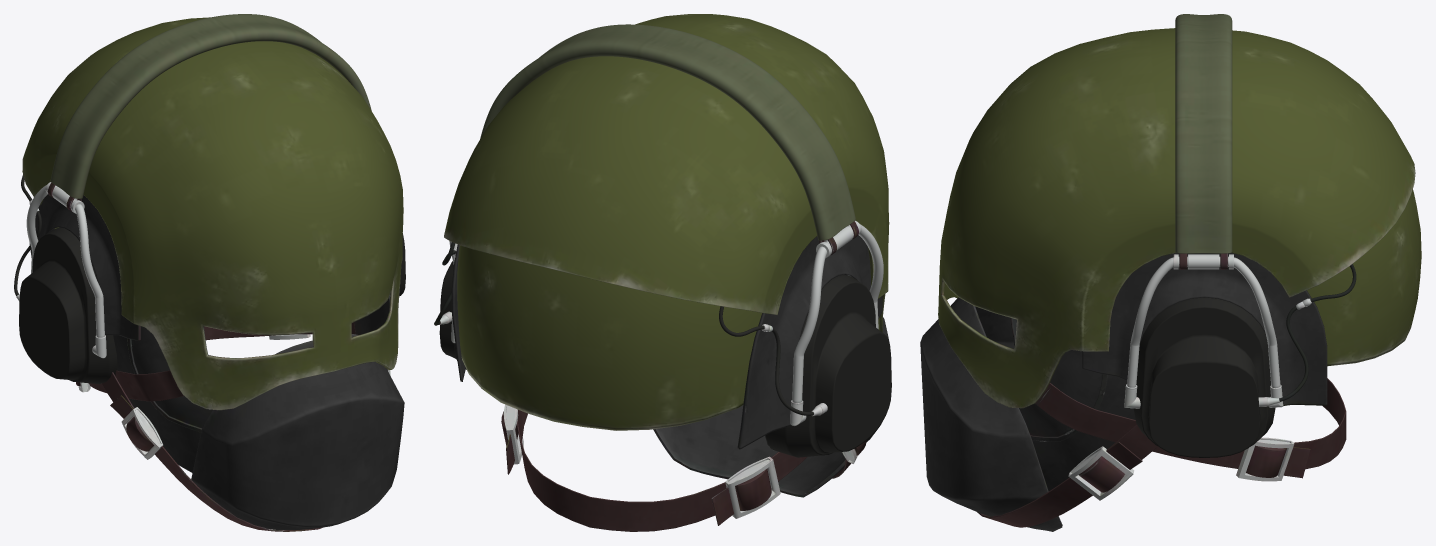
File: spetsnaz_ballistic_helmet__concept.compressed.glb
3 views of the same model, side by side, from view 1: azimuth 30°, elevation 25°; view 2: azimuth 150°, elevation 25°; view 3: azimuth 270°, elevation 25° (orthographic). The views are drawn at different scales.
Parts seen in each view (by area): view 1: Head_Material_0, MouthPiece_Material_0, StrapBig_Material_0, EarMuffs_Material_0, SidePiece1_Material_0, SidePiece_Material_0, StrapUp_Material_0, HeadPhoneMount1_Material_0, StrapDown_Material_0, Buckles_Material_0, StrapsSmall_Material_0; view 2: Head_Material_0, HeadBack_Material_0, StrapBig_Material_0, EarMuffs_Material_0, SidePiece_Material_0, StrapUp_Material_0, MouthPiece_Material_0, HeadPhoneMount1_Material_0, Buckles_Material_0, StrapsSmall_Material_0, Cable_Material_0; view 3: Head_Material_0, EarMuffs_Material_0, MouthPiece_Material_0, StrapBig_Material_0, SidePiece_Material_0, HeadBack_Material_0, SidePiece1_Material_0, StrapUp_Material_0, StrapsSmall_Material_0, StrapDown_Material_0, HeadPhoneMount1_Material_0, Buckles_Material_0 (+2 smaller).
Boxes of the visible parts, x1,y1,x2,y2 form: Head_Material_0: (22,17,403,410); MouthPiece_Material_0: (191,334,404,530); StrapBig_Material_0: (50,14,371,198); EarMuffs_Material_0: (19,227,405,384); SidePiece1_Material_0: (113,294,390,472); SidePiece_Material_0: (29,194,140,340); StrapUp_Material_0: (89,322,355,401); HeadPhoneMount1_Material_0: (26,185,104,337); StrapDown_Material_0: (101,372,323,531); Buckles_Material_0: (78,334,390,459); StrapsSmall_Material_0: (76,382,153,451); Head_Material_0: (444,14,889,332); HeadBack_Material_0: (457,245,761,430); StrapBig_Material_0: (480,24,855,240); EarMuffs_Material_0: (439,261,891,457); SidePiece_Material_0: (451,235,882,449); StrapUp_Material_0: (517,409,807,531); MouthPiece_Material_0: (653,274,890,497); HeadPhoneMount1_Material_0: (449,224,883,403); Buckles_Material_0: (503,404,858,518); StrapsSmall_Material_0: (501,411,865,525); Cable_Material_0: (434,242,813,415); Head_Material_0: (938,28,1415,408); EarMuffs_Material_0: (1133,297,1275,457); MouthPiece_Material_0: (920,297,1062,531); StrapBig_Material_0: (1175,14,1232,253); SidePiece_Material_0: (1082,253,1327,405); HeadBack_Material_0: (1307,189,1421,366); SidePiece1_Material_0: (1010,317,1135,491); StrapUp_Material_0: (1035,378,1346,469); StrapsSmall_Material_0: (1078,442,1310,492); StrapDown_Material_0: (977,424,1157,527); HeadPhoneMount1_Material_0: (1127,257,1280,388); Buckles_Material_0: (1068,437,1294,500).
Size of the model in its own units: 0.1992 by 0.2476 by 0.2355.
Materials: 1 (1 with a texture image).
